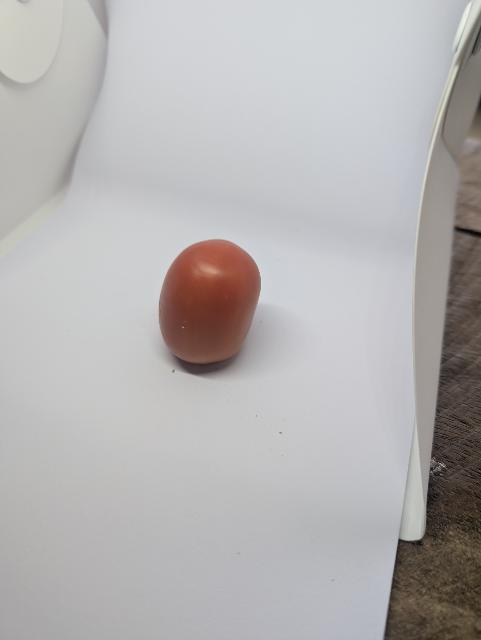red: (144, 230, 270, 383)
